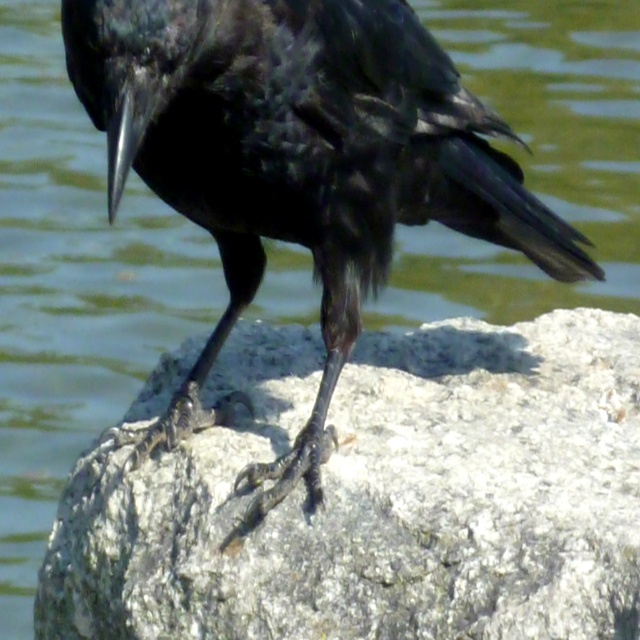Raven: (61, 0, 607, 527)
